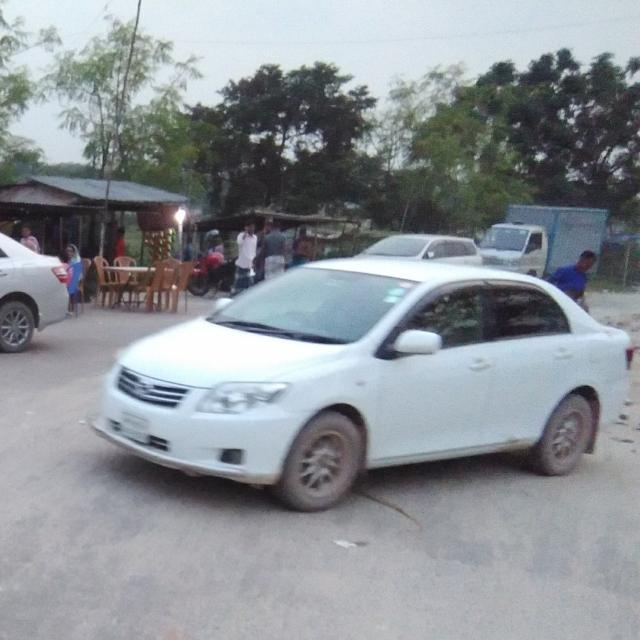car: (88, 255, 632, 513)
pickup-van: (486, 192, 610, 286)
